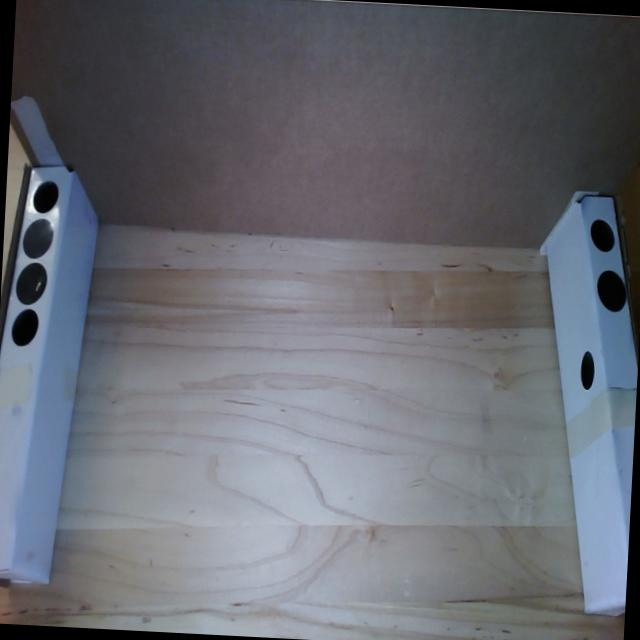Hole: (8, 306, 41, 348), (31, 176, 60, 216), (588, 216, 616, 256), (576, 349, 598, 392)
Sticker: (13, 260, 52, 308), (594, 268, 628, 314), (20, 217, 56, 260)
